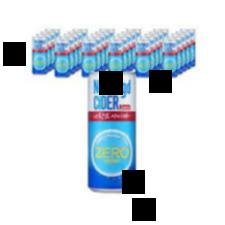narangdcider: (85, 70, 139, 192)
